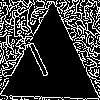I: (26, 40, 56, 87)
